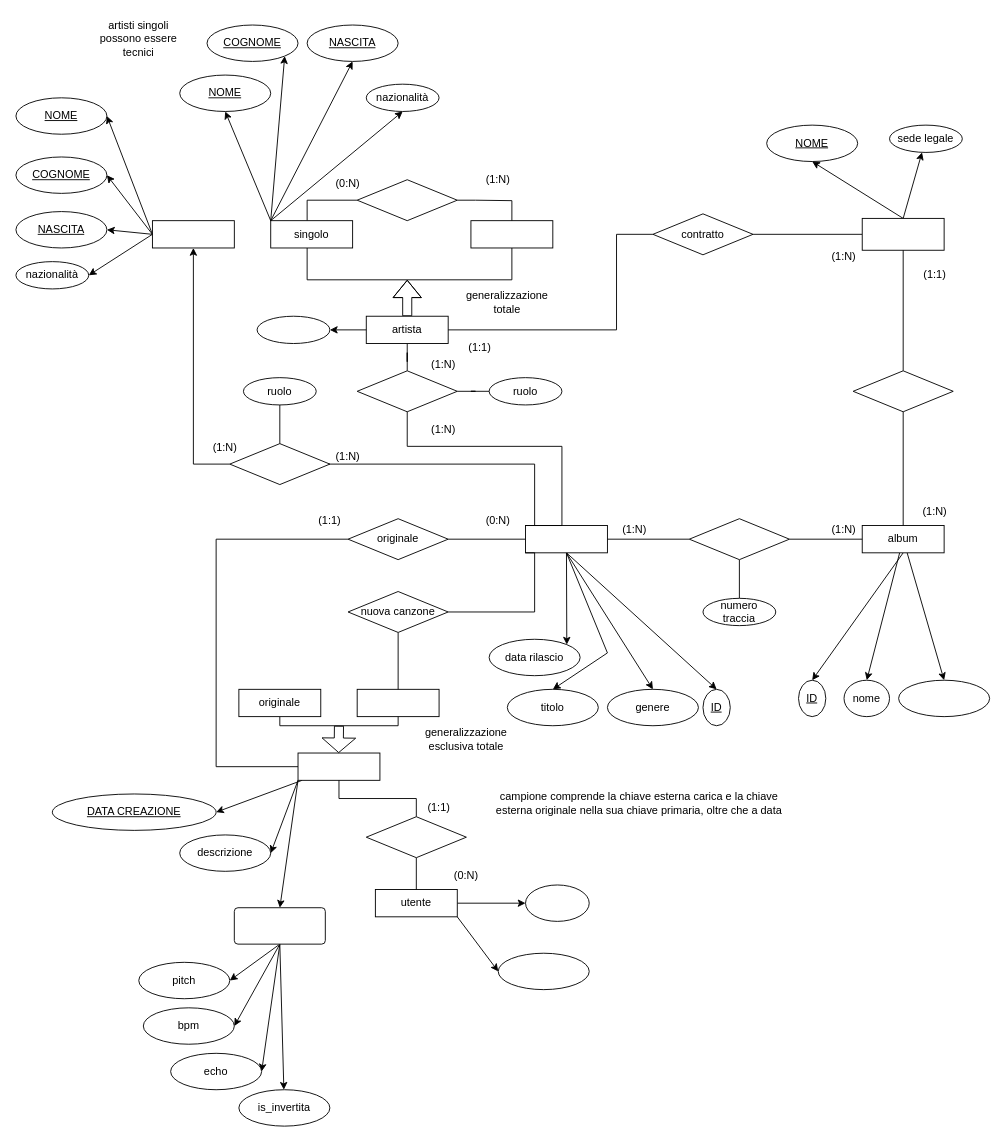
This 1006x1142 diagram has some shape labels left out. The centre of each missing label's shape, as x and y in pixels:
anno rilascio: the point at 944,698
band: the point at 511,234
campione: the point at 338,766
canzone: the point at 566,539
carica: the point at 415,837
casa discografica: the point at 902,233
compone: the point at 406,200
creazione: the point at 406,391
distribuzione: the point at 902,391
effetti (campo multivalore): the point at 279,925
EMAIL: the point at 557,902
nickname: the point at 543,971
nome d'arte: the point at 293,329
produzione: the point at 279,464
rilascio: the point at 738,539
scoperto: the point at 397,702
tecnico: the point at 193,234
